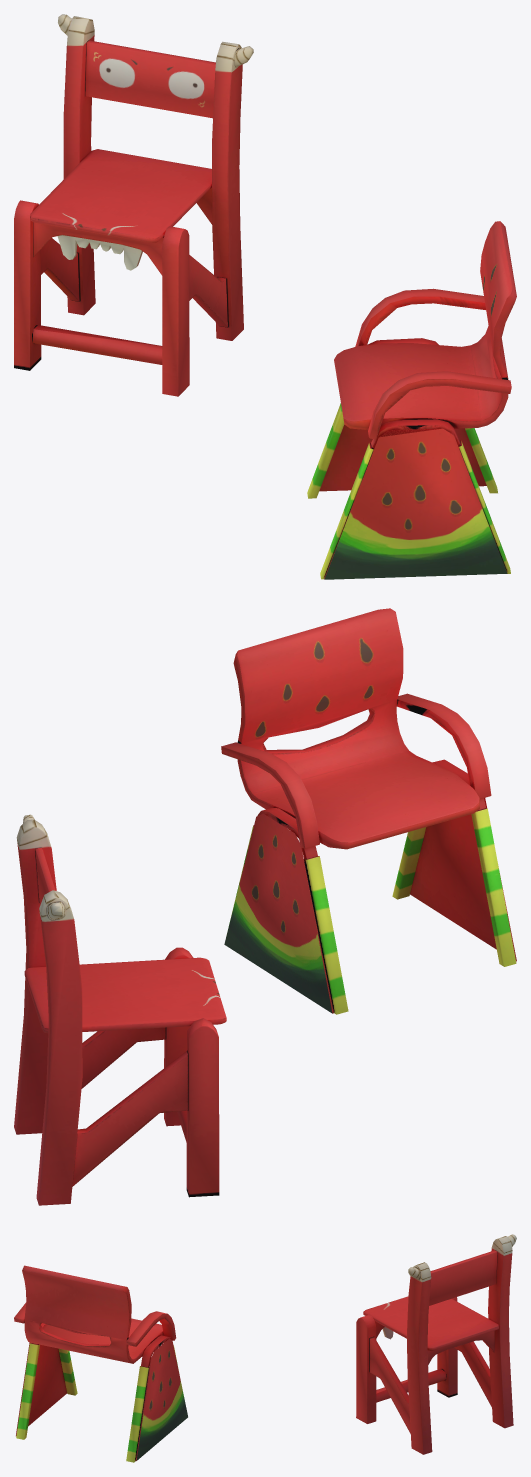
Rendered from Chair_LOD5.glb.
3 renders of one model, top to bottom at view 1: azimuth 30°, elevation 25°; view 2: azimuth 150°, elevation 25°; view 3: azimuth 270°, elevation 25°, orthographic. The views are drawn at different scales.
Parts seen in each view (by area): view 1: Chair 1_Retopo.001_LOD5; view 2: Chair 1_Retopo.001_LOD5; view 3: Chair 1_Retopo.001_LOD5.
Part boxes in pixels (x1,y1,x2,y2): Chair 1_Retopo.001_LOD5: (14, 14, 516, 579); Chair 1_Retopo.001_LOD5: (14, 608, 516, 1205); Chair 1_Retopo.001_LOD5: (14, 1234, 516, 1462).
Size of the model in its own units: 0.8648 by 0.9977 by 2.45.
1 material, 1 textured.
